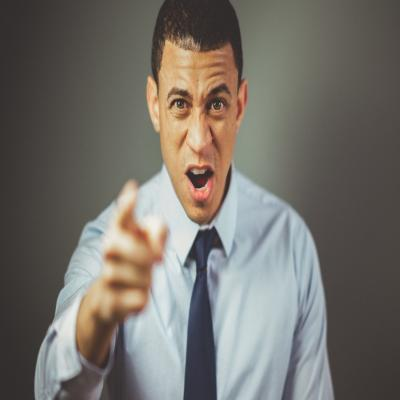angry: (161, 33, 238, 216)
